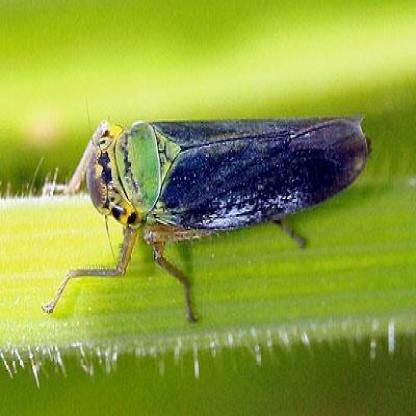Green-Leafhopper: (44, 107, 378, 338)
